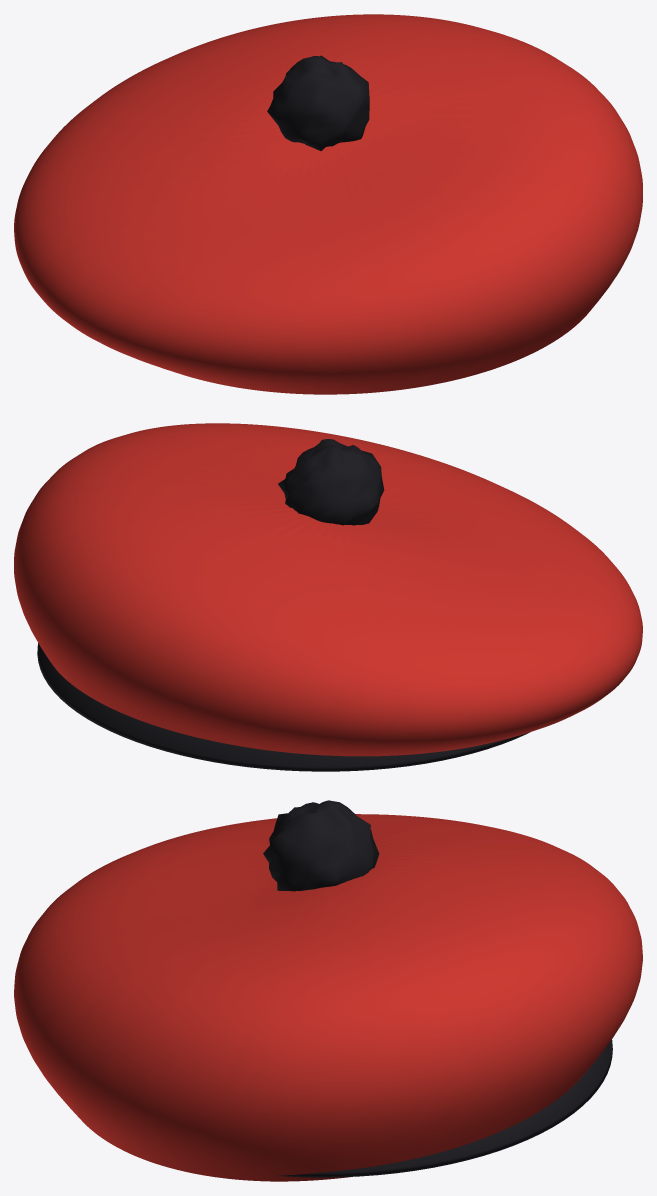
File: hw_beret.glb
3 renders of one model, top to bottom at view 1: azimuth 30°, elevation 25°; view 2: azimuth 150°, elevation 25°; view 3: azimuth 270°, elevation 25°, orthographic. The views are drawn at different scales.
Parts seen in each view (by area): view 1: hw_beret, hw_beret@tam_p; view 2: hw_beret, hw_beret@tam_b, hw_beret@tam_p; view 3: hw_beret, hw_beret@tam_p, hw_beret@tam_b.
Part boxes in pixels (box(x1,y1,x2,y2)): hw_beret: box(14, 14, 642, 394); hw_beret@tam_p: box(267, 55, 369, 150); hw_beret: box(14, 423, 642, 756); hw_beret@tam_b: box(37, 643, 529, 771); hw_beret@tam_p: box(278, 439, 384, 525); hw_beret: box(14, 814, 642, 1181); hw_beret@tam_p: box(263, 800, 379, 891); hw_beret@tam_b: box(277, 1040, 612, 1177).
Size of the model in its own units: 0.9153 by 0.3727 by 0.8201.
